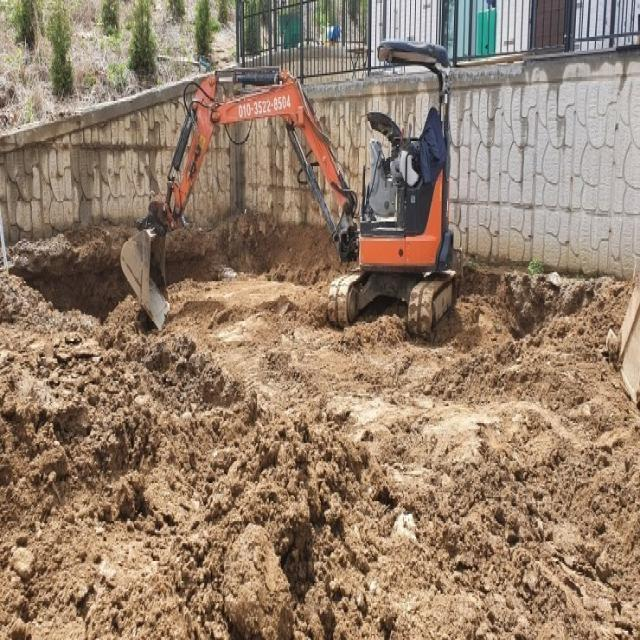excavator: (121, 40, 459, 342)
